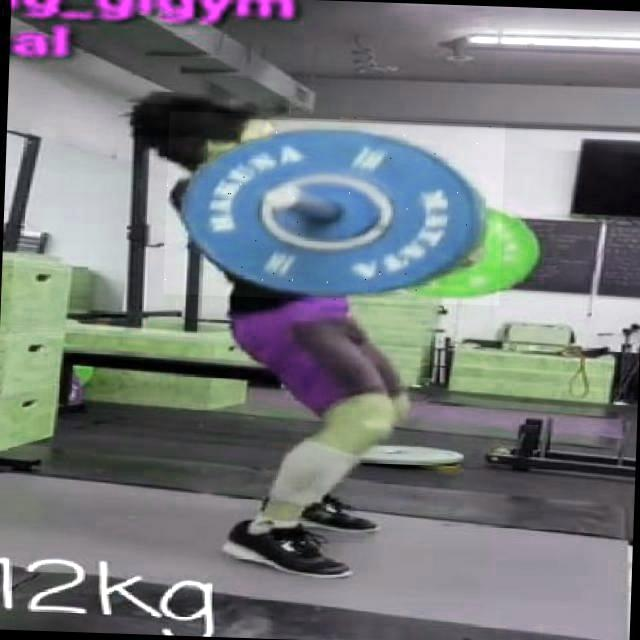barbell: (163, 111, 505, 307)
